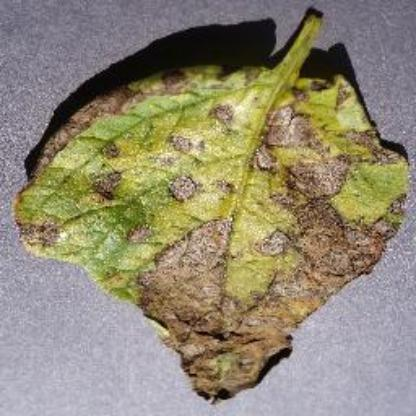Early-Blight: (12, 5, 412, 403)
